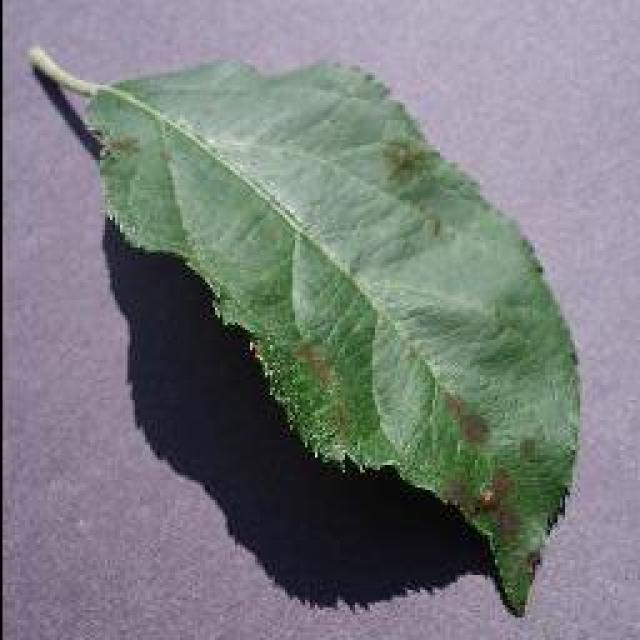apple scab disease: (27, 42, 585, 618)
